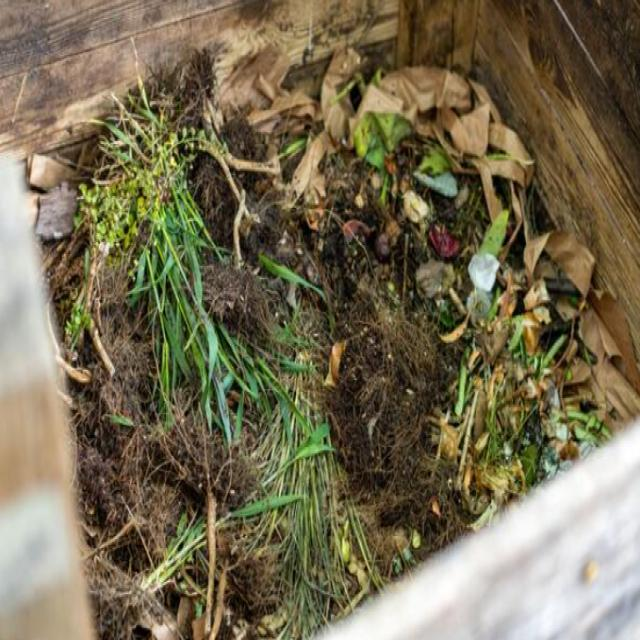paper: (248, 302, 364, 620), (124, 90, 238, 408)
